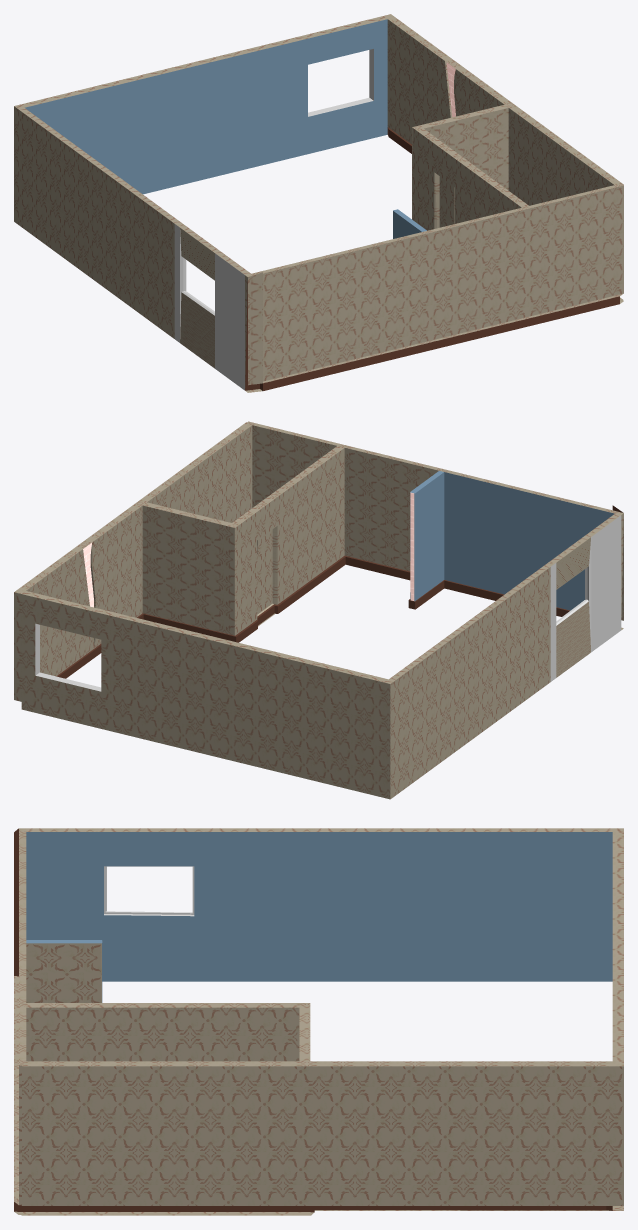
The model's file is Walls.glb.
The picture shows the model from 3 angles, top to bottom: view 1: azimuth 30°, elevation 25°; view 2: azimuth 150°, elevation 25°; view 3: azimuth 270°, elevation 25°; orthographic projection. The views are drawn at different scales.
Parts seen in each view (by area): view 1: Cube; view 2: Cube; view 3: Cube.
Part boxes in pixels (x1,y1,x2,y2): Cube: [14, 14, 623, 392]; Cube: [14, 421, 623, 799]; Cube: [14, 828, 623, 1215].
Size of the model in its own units: 8.37 by 2.53 by 9.07.
Materials: 5 (1 with a texture image).
